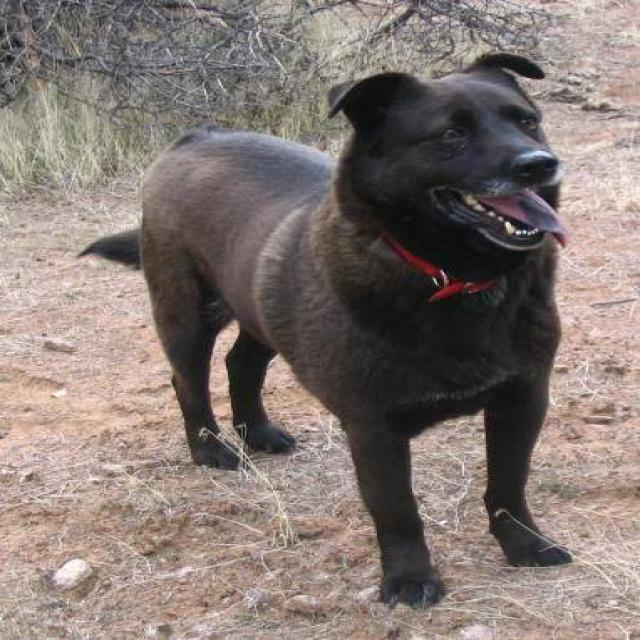dog: (75, 50, 575, 609)
